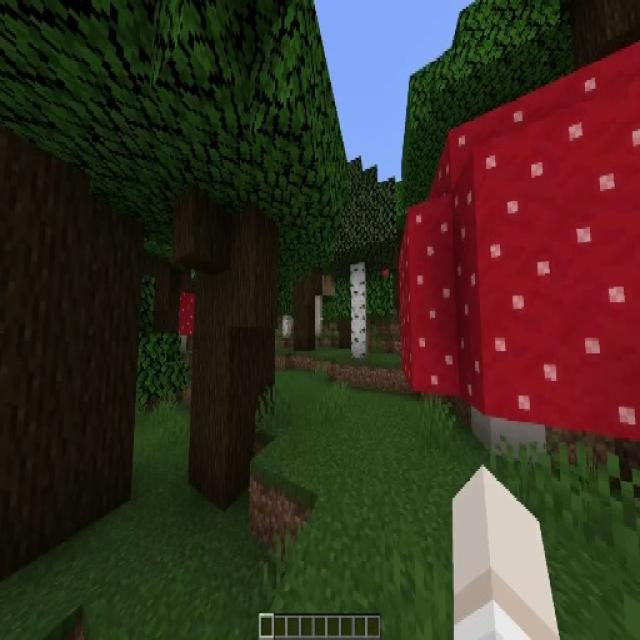birch_log: (350, 266, 367, 361), (283, 316, 291, 334)
dark_oak_log: (0, 131, 136, 556), (192, 189, 274, 501), (292, 268, 316, 350), (156, 263, 181, 341)
